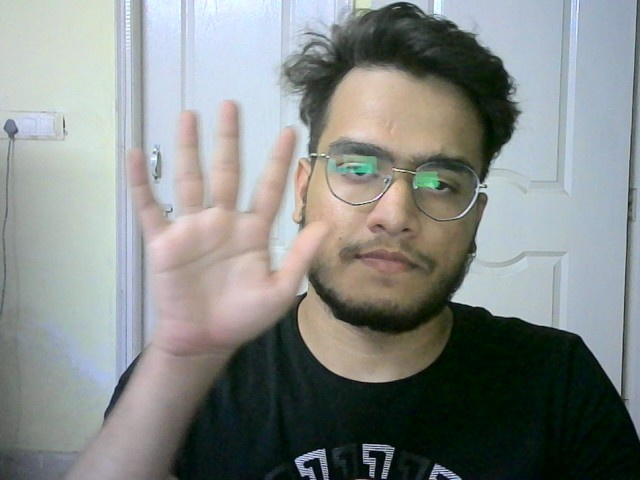Hello: (117, 97, 338, 364)
